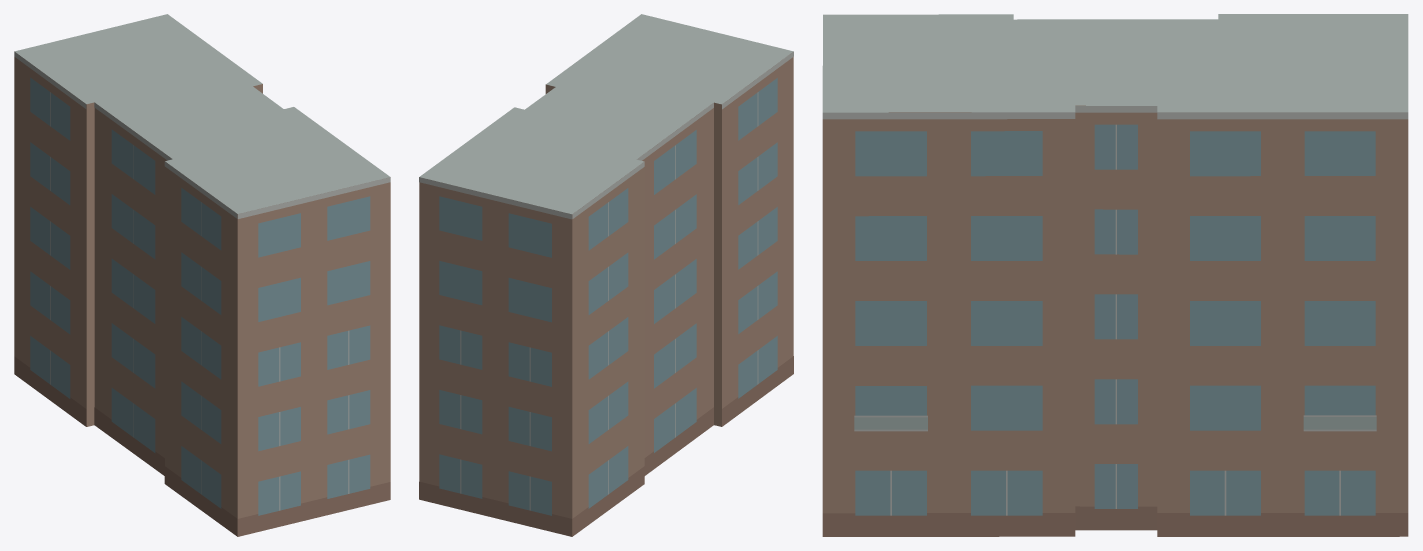
Rendered from survey-upis-32598047.glb.
3 views of the same model, side by side, from view 1: azimuth 30°, elevation 25°; view 2: azimuth 150°, elevation 25°; view 3: azimuth 270°, elevation 25° (orthographic). The views are drawn at different scales.
Visible parts, largest first — view 1: survey-upis-32598047.tmp; view 2: survey-upis-32598047.tmp; view 3: survey-upis-32598047.tmp.
Part boxes in pixels (bbox=[...]): survey-upis-32598047.tmp: bbox=[14, 14, 390, 536]; survey-upis-32598047.tmp: bbox=[419, 14, 793, 536]; survey-upis-32598047.tmp: bbox=[822, 14, 1408, 536].
Bounding box in the file's own units: 7.61 × 15.2 × 19.03.
